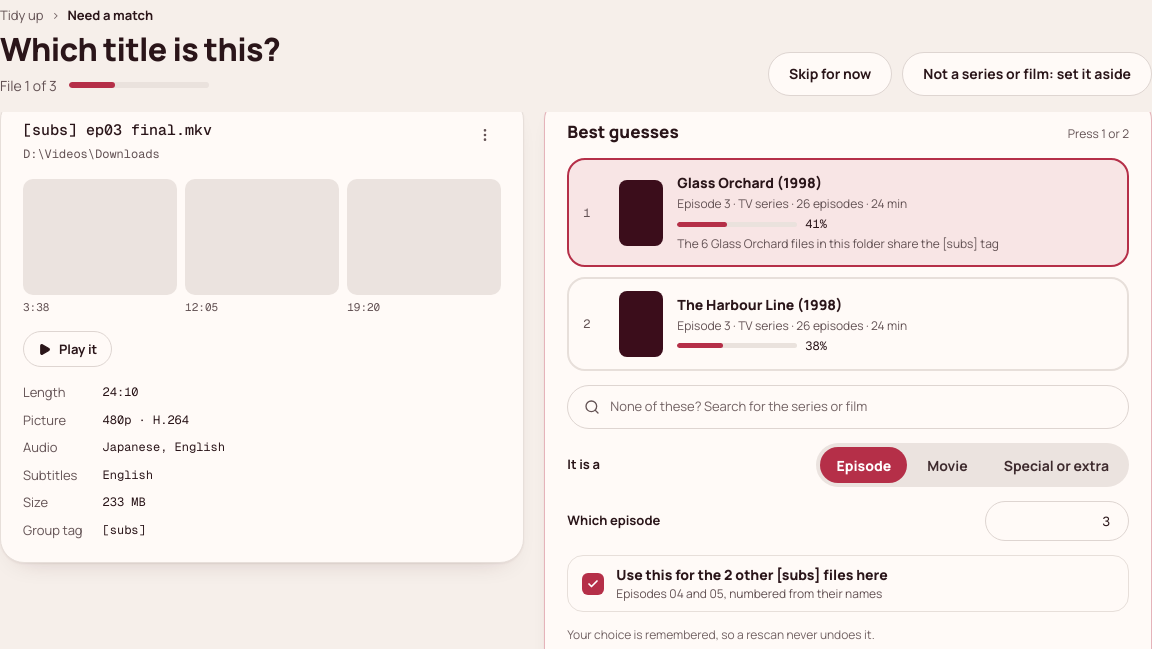
Test case: MatchPage › searches once the owner stops typing
In the search field named "Search for the right series or film": (861, 407) [610,397,1112,417], type "Gl"
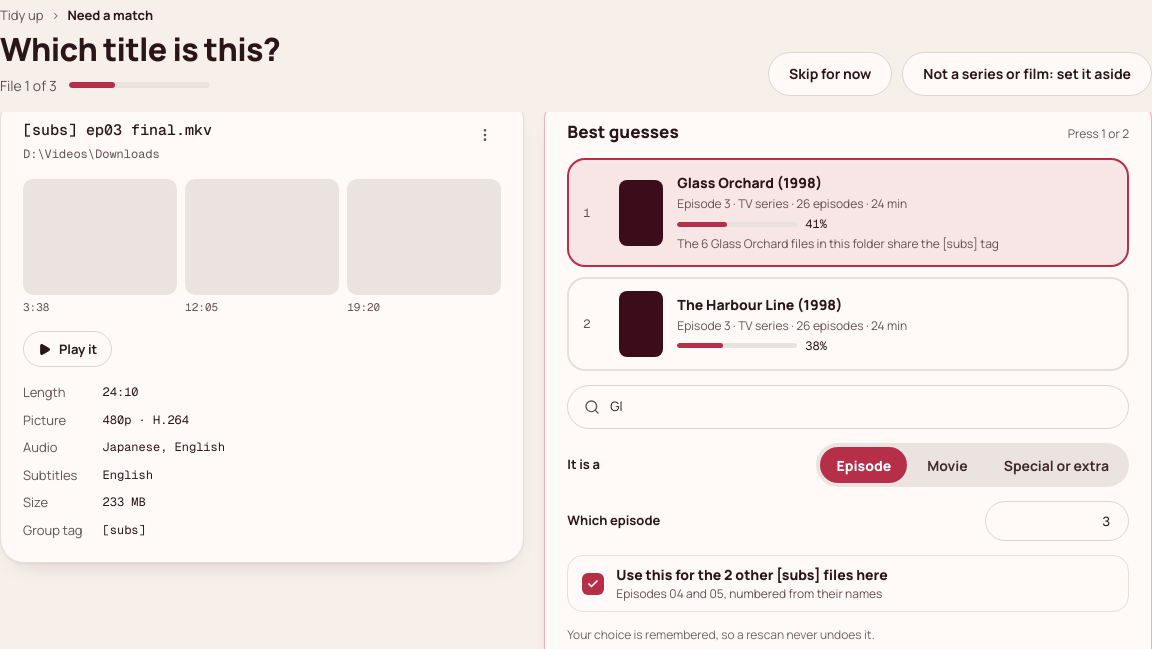
Replace the text in the search field named "Search for the right series or film" with "Gla": (861, 407) [610,397,1112,417]
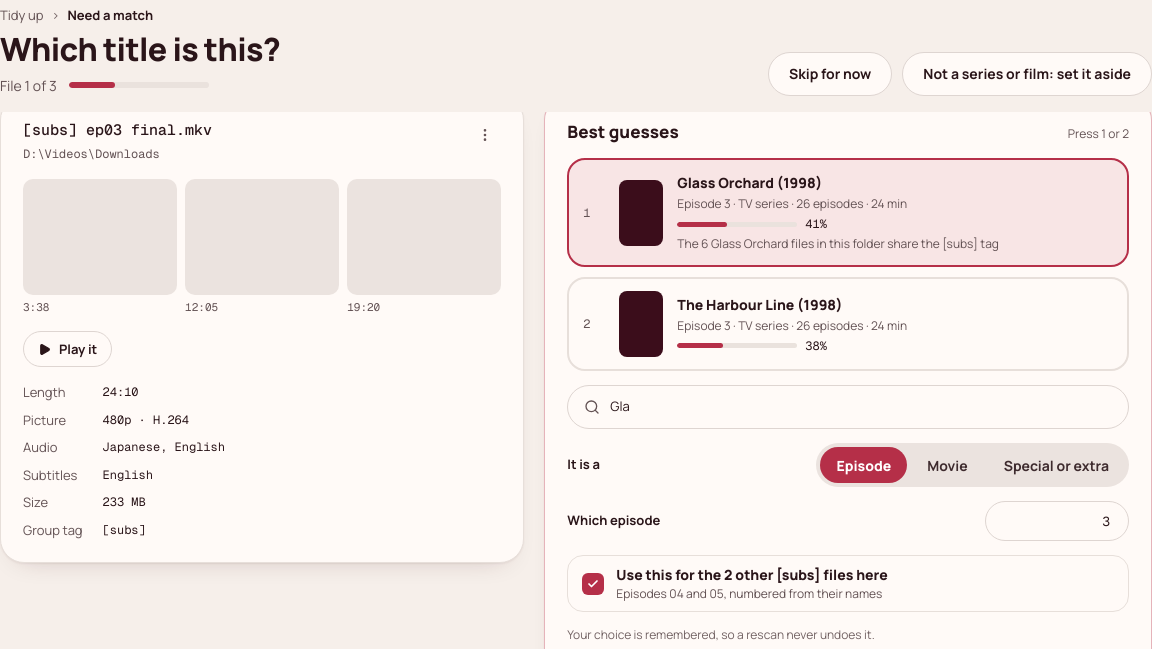
Replace the text in the search field named "Search for the right series or film" with "Glas": (861, 407) [610,397,1112,417]
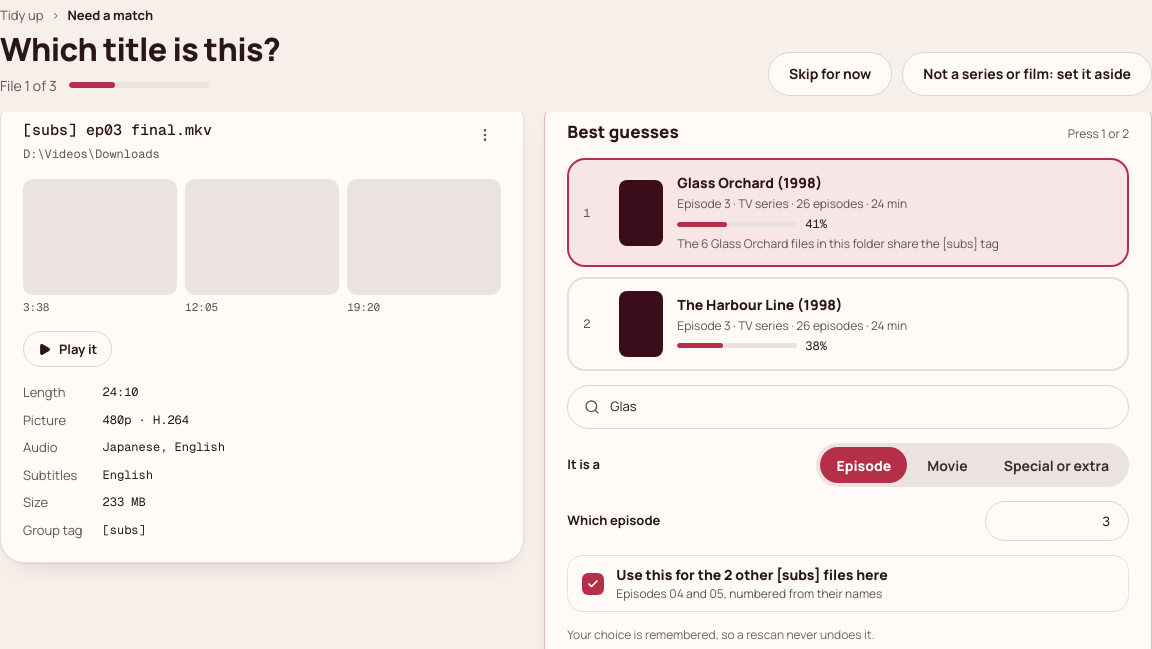
Replace the text in the search field named "Search for the right series or film" with "Glass": (861, 407) [610,397,1112,417]
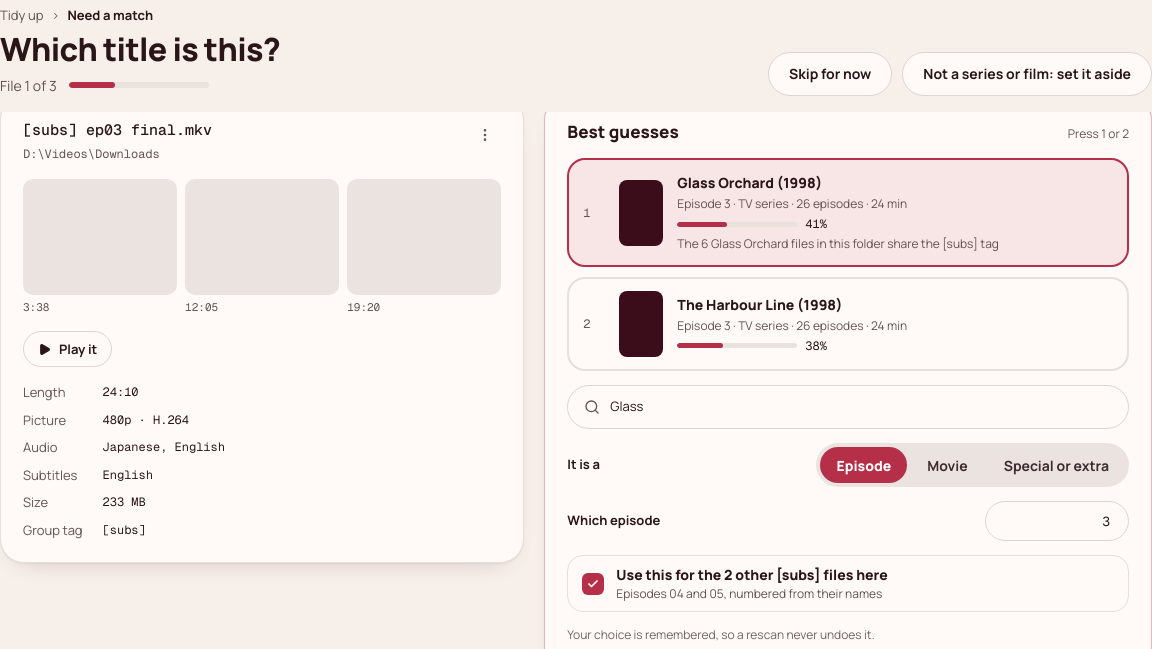
Replace the text in the search field named "Search for the right series or film" with "Glass O": (861, 407) [610,397,1112,417]
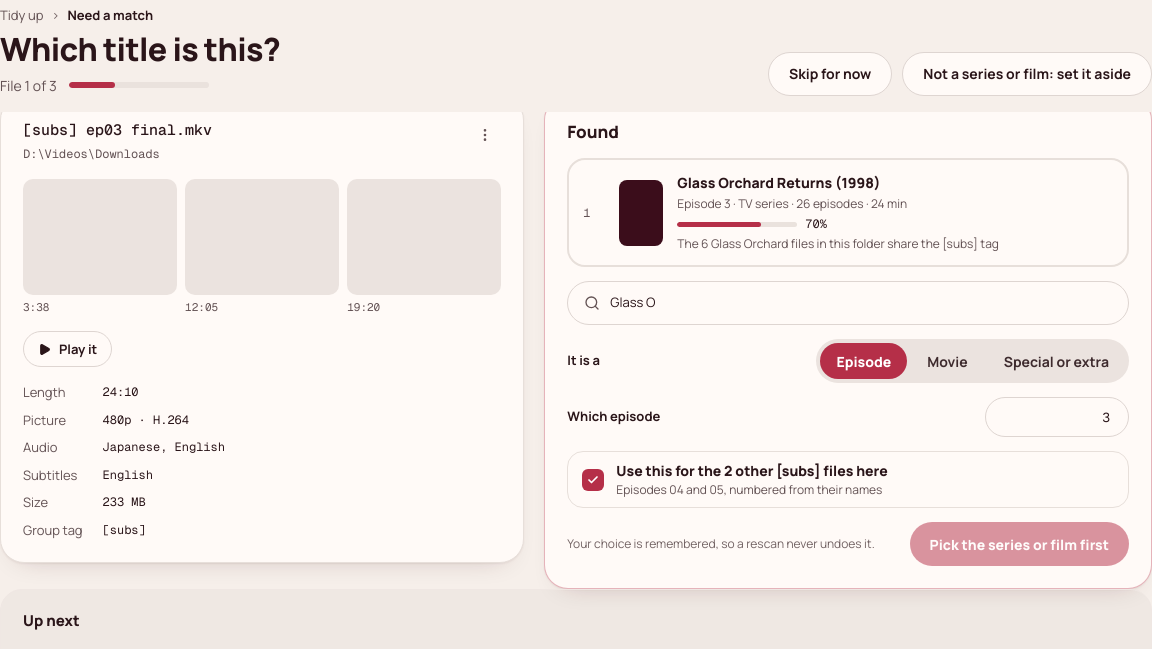
Expected: the radio button labelled "Glass Orchard Returns" is shown, [567,158,1129,267]
